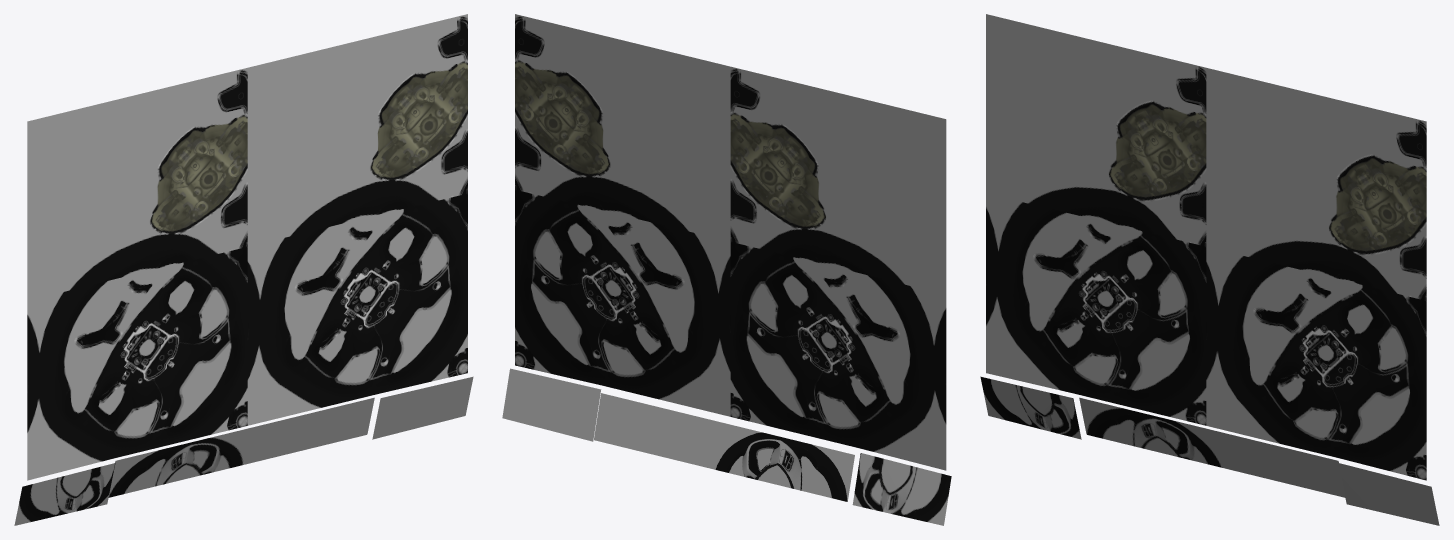
The model's file is Range_Stoves.obj.
The picture shows the model from 3 angles, left to right: view 1: azimuth 30°, elevation 25°; view 2: azimuth 150°, elevation 25°; view 3: azimuth 330°, elevation 25°; orthographic projection. The views are drawn at different scales.
Bounding box in the file's own units: 0.7396 × 0.6421 × 0.0296.
